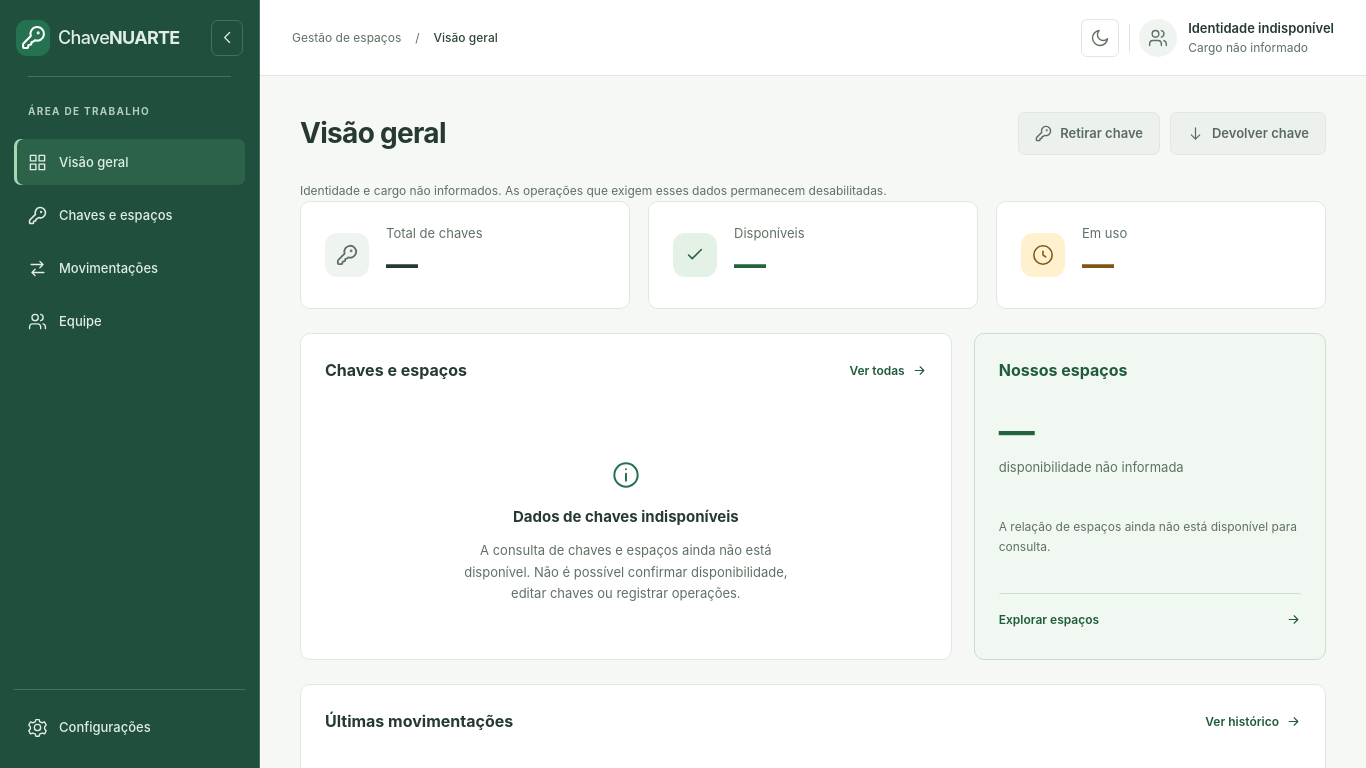
Test: permite navegar em todas as telas e identificar cada dependência sem executar operações
The width and height of the screenshot is (1366, 768).
expect the heading "Visão geral" is shown: met, box [300,115,446,152]
Click the button "Chaves e espaços" at (130, 215), box [14,192,245,238]
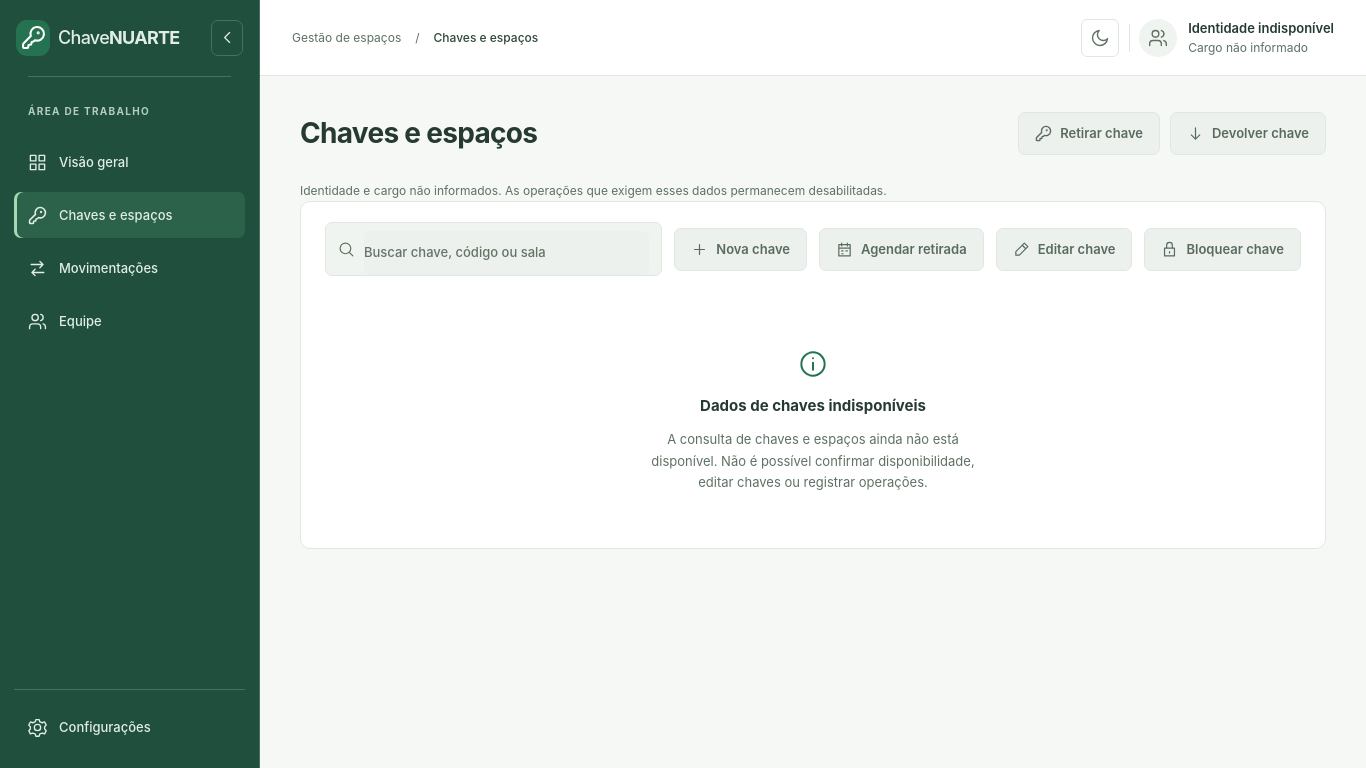
expect the heading "Chaves e espaços" is shown: met, box [300,115,537,152]
expect the button "Agendar retirada" is disabled: met, box [819,228,984,271]
expect the button "Nova chave" is disabled: met, box [674,228,807,271]
Click the button "Movimentações" at (130, 268), box [14,245,245,291]
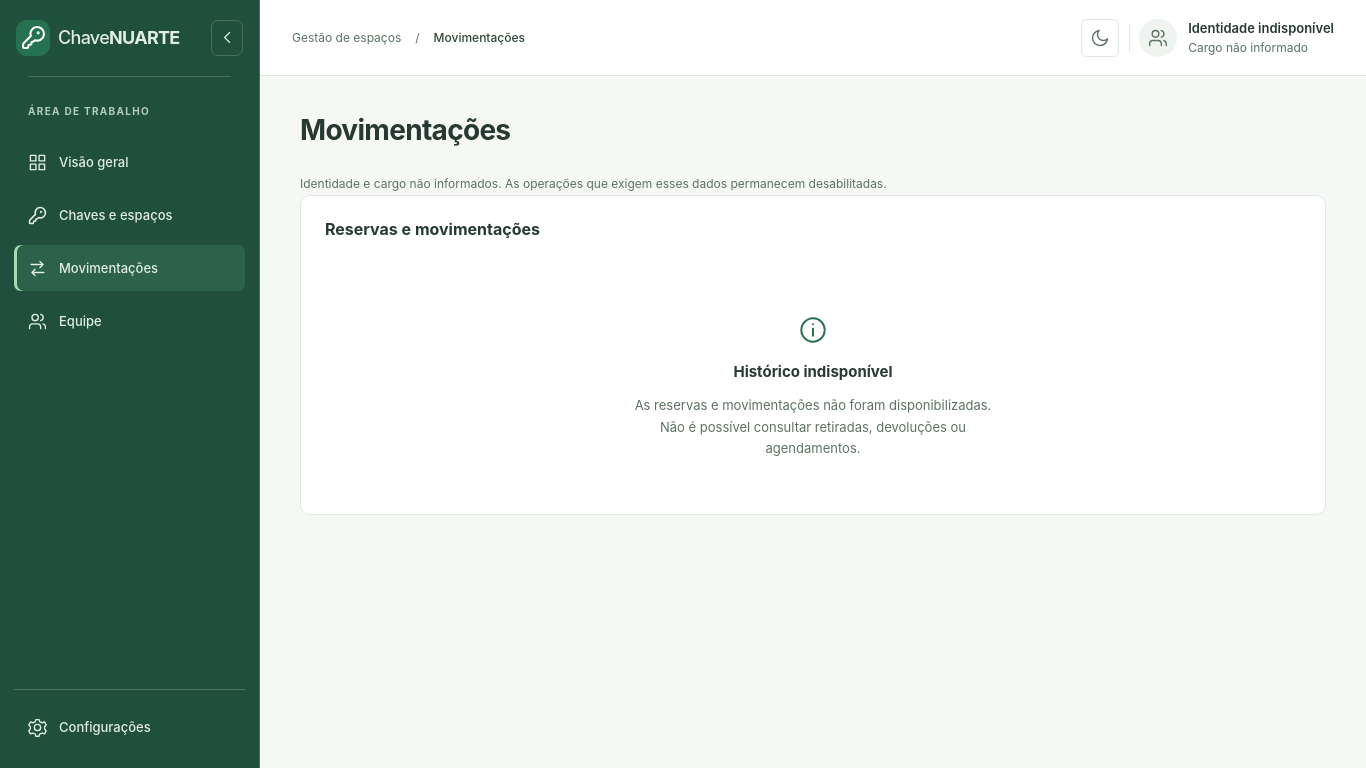
expect the heading "Movimentações" is shown: met, box [300,112,510,148]
expect the heading "Histórico indisponível" is shown: met, box [733,361,892,383]
Click the button "Equipe" at (130, 321), box [14,298,245,344]
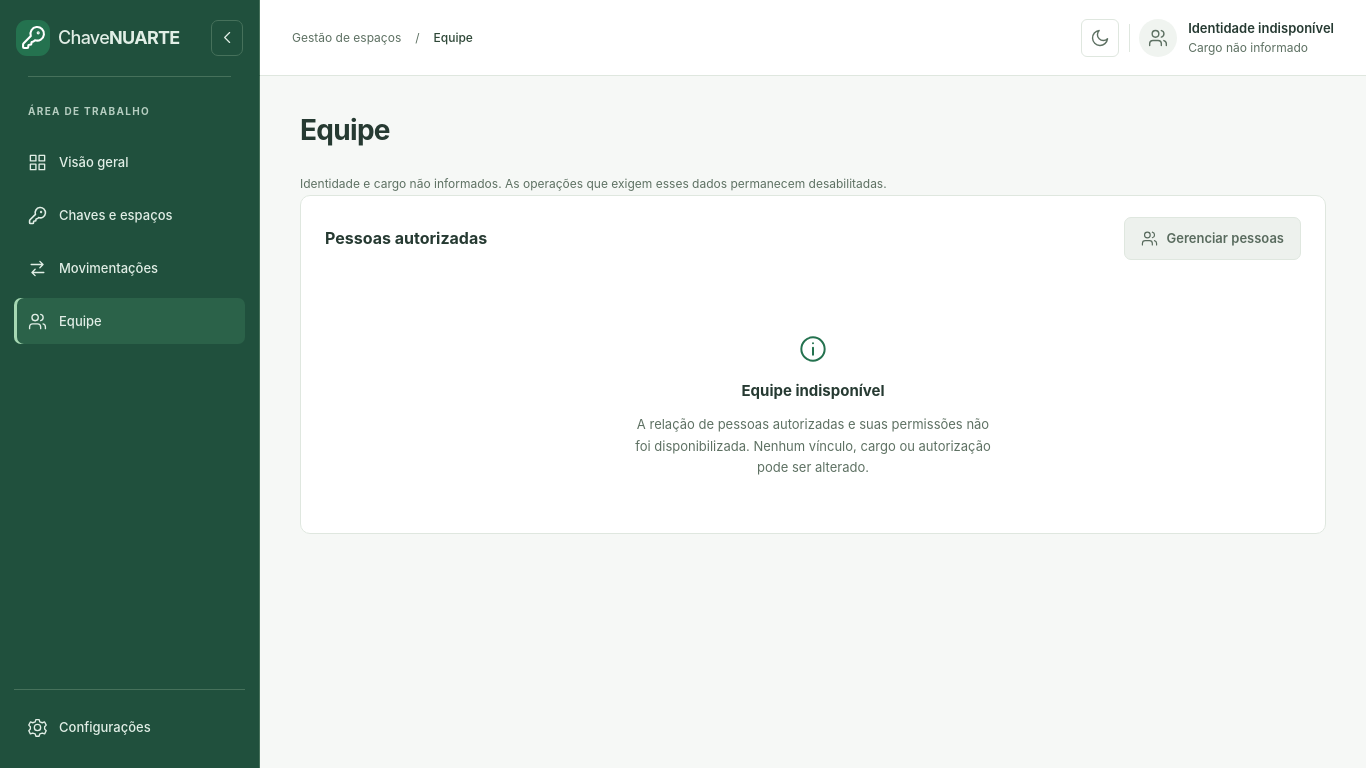
expect the heading "Equipe" is shown: met, box [300,112,390,148]
expect the heading "Equipe indisponível" is shown: met, box [742,380,884,402]
expect the button "Gerenciar pessoas" is disabled: met, box [1124,217,1301,260]
Click the button "Configurações" at (130, 727), box [14,704,245,750]
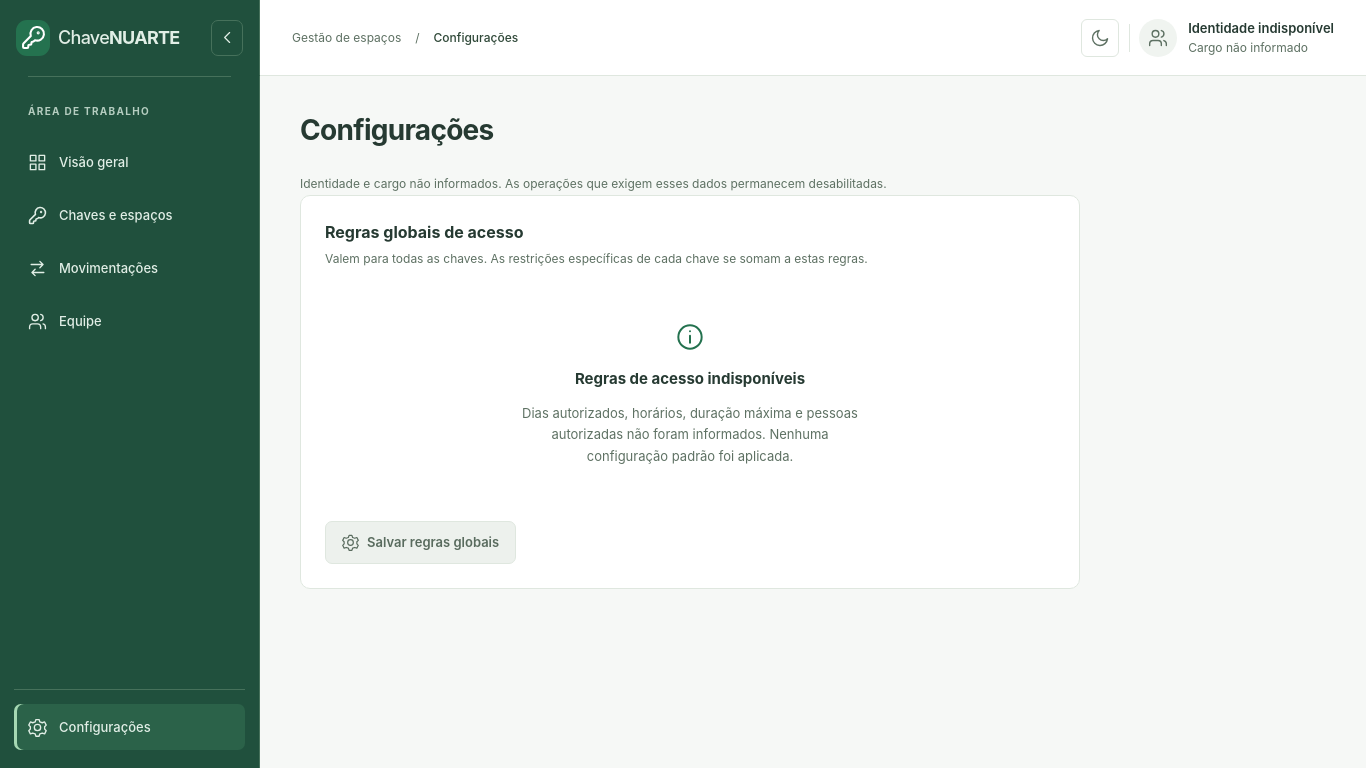
expect the button "Salvar regras globais" is disabled: met, box [325,521,516,564]
expect the heading "Configurações" is shown: met, box [300,112,494,148]
expect the heading "Regras de acesso indisponíveis" is shown: met, box [575,368,805,391]
Click the link with aria-label "ChaveNUARTE — Visão geral" at (98, 38), box [16,20,180,56]
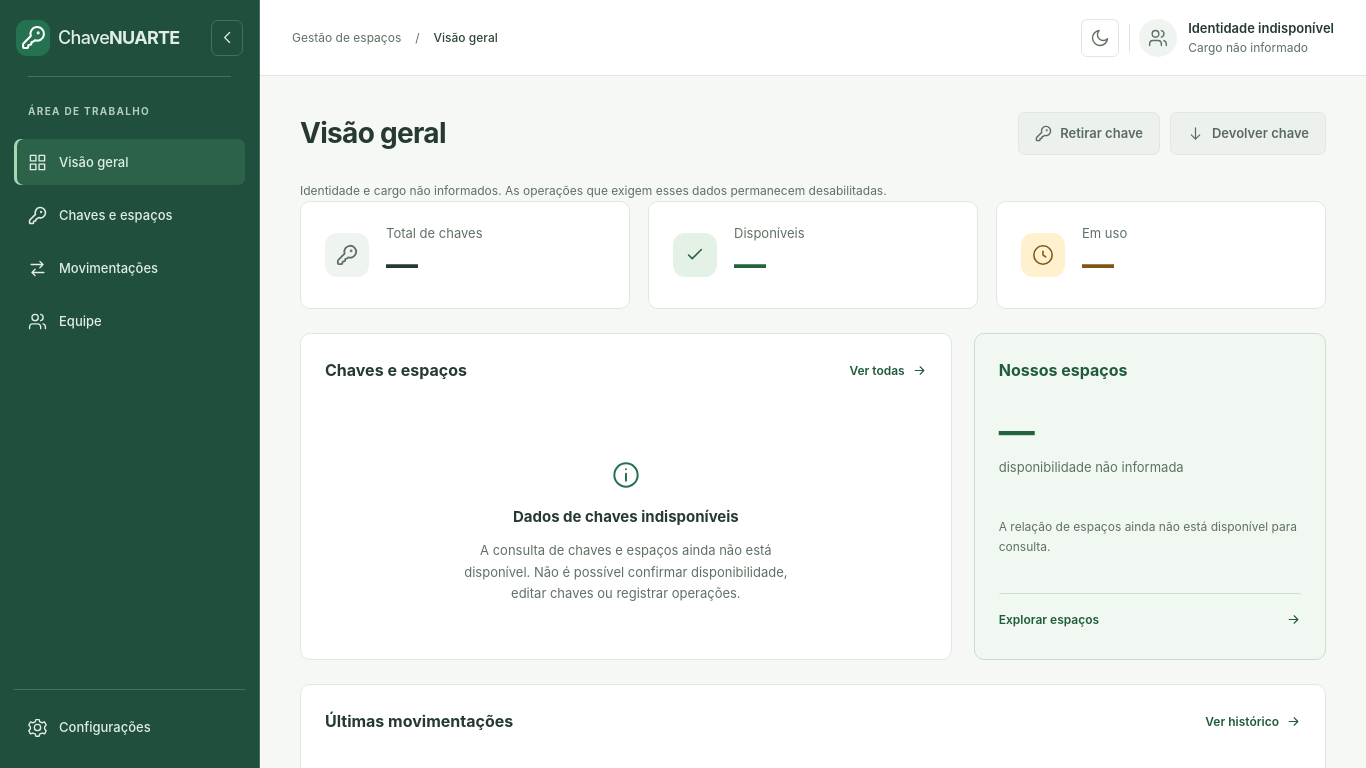
expect the heading "Visão geral" is shown: met, box [300,115,446,152]
